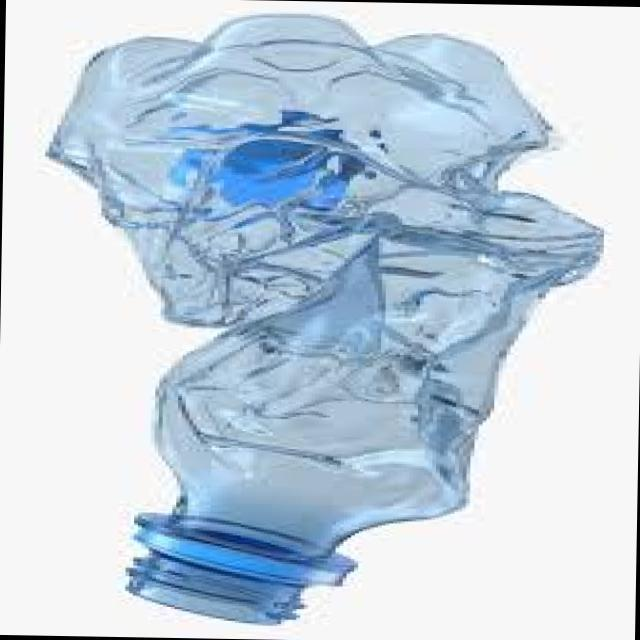defected: (31, 14, 608, 626)
